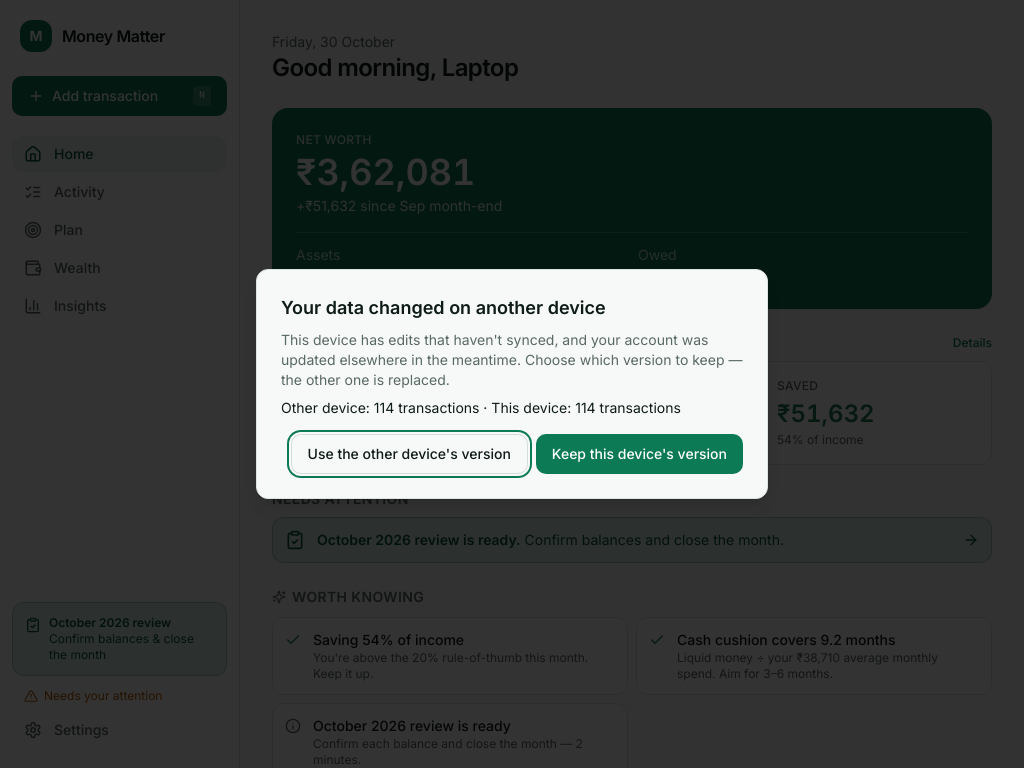
Test case: returning users › flags a conflict instead of overwriting, and lets the user keep the server's version
Expected: the heading "Your data changed on another device" is shown, [281,297,606,318]
Click the button "Use the other device's version" at (409, 454), box [291,434,528,474]
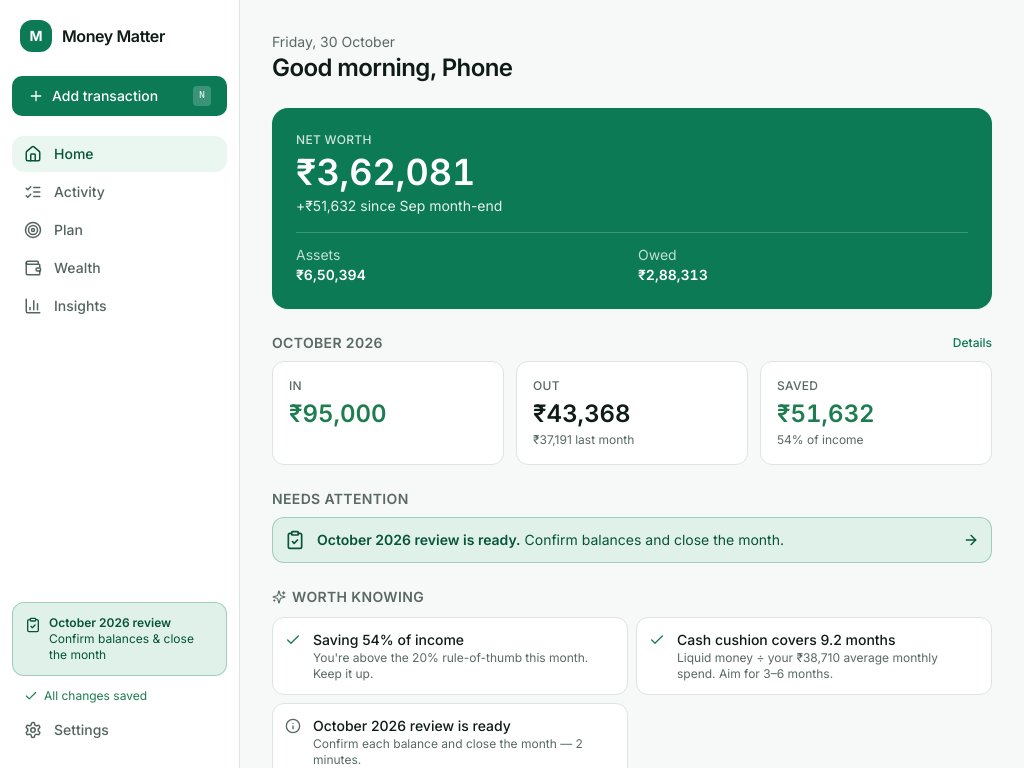
Expected: the heading "Your data changed on another device" is gone
Expected: the heading "Good morning, Phone" is shown, [272,53,512,82]
